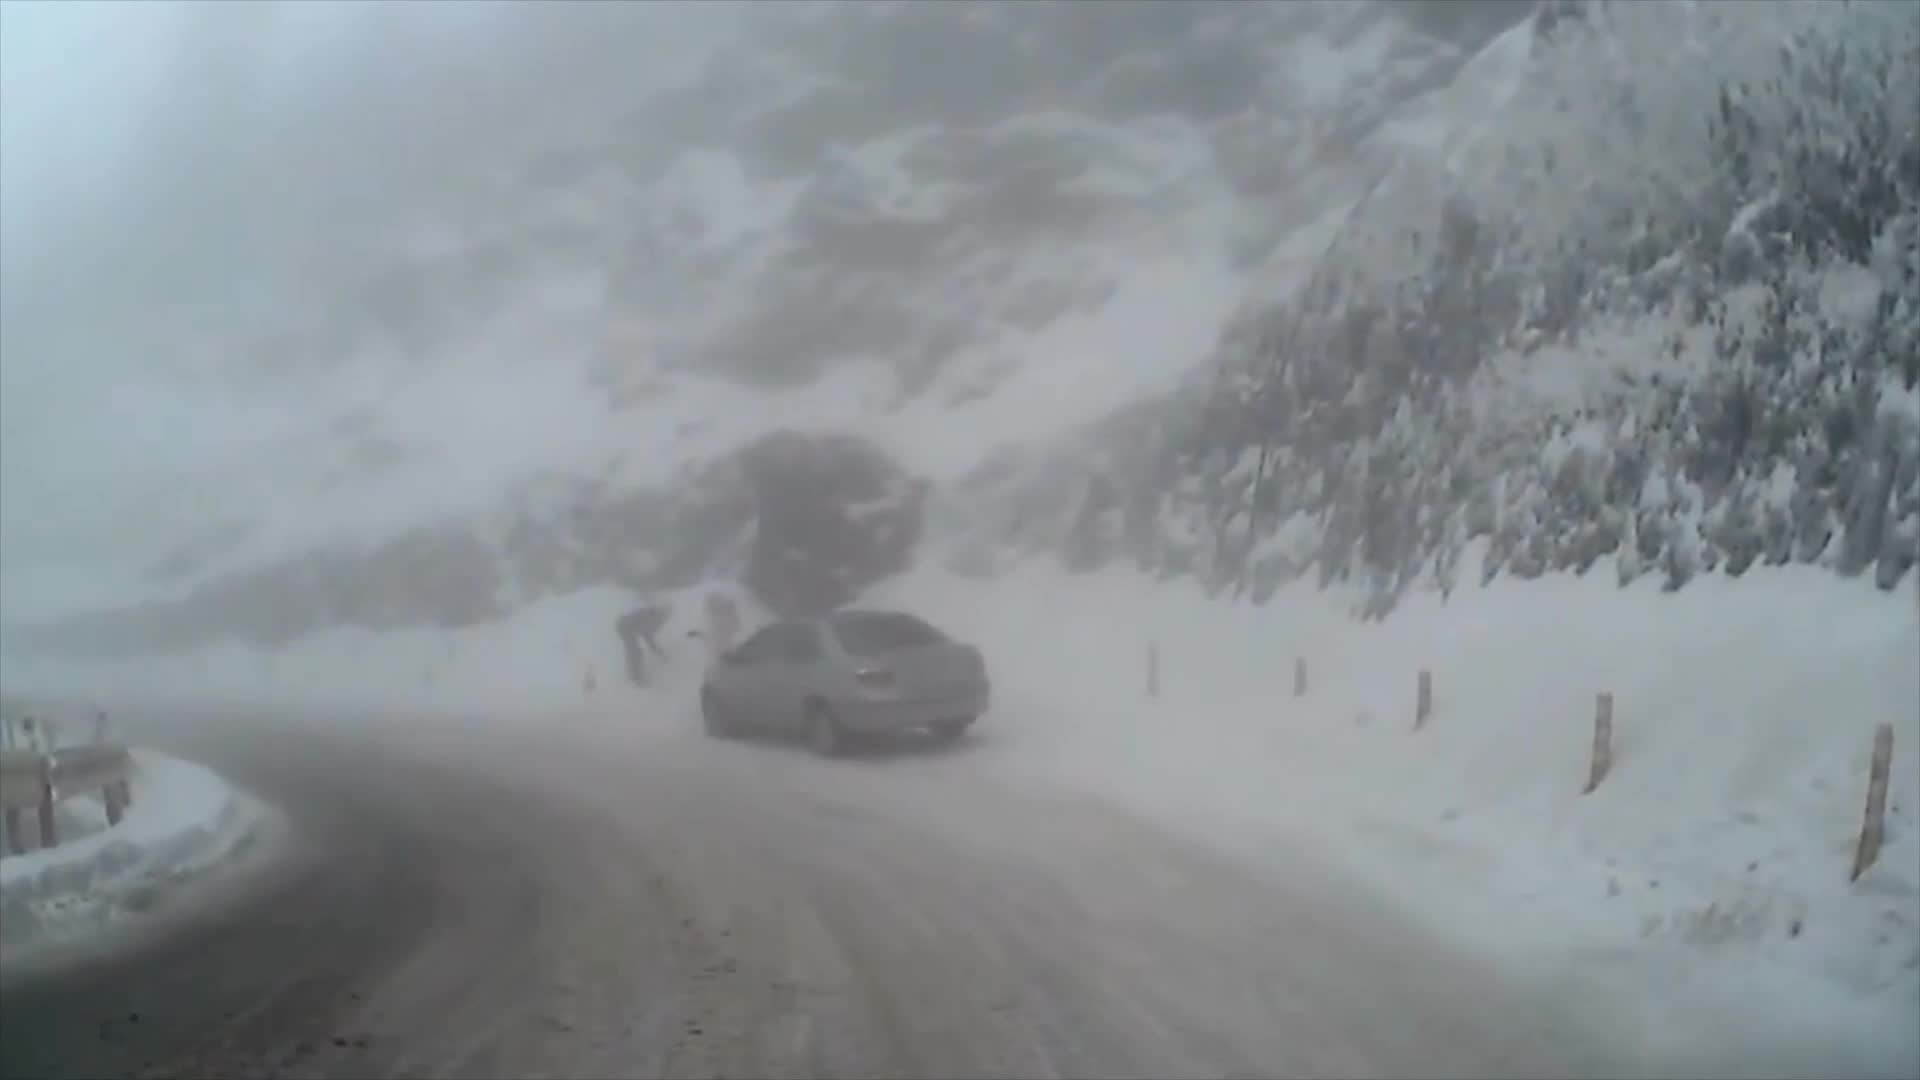pedestrian: (683, 595, 745, 719), (615, 605, 670, 689)
vehicle: (691, 608, 984, 759)
